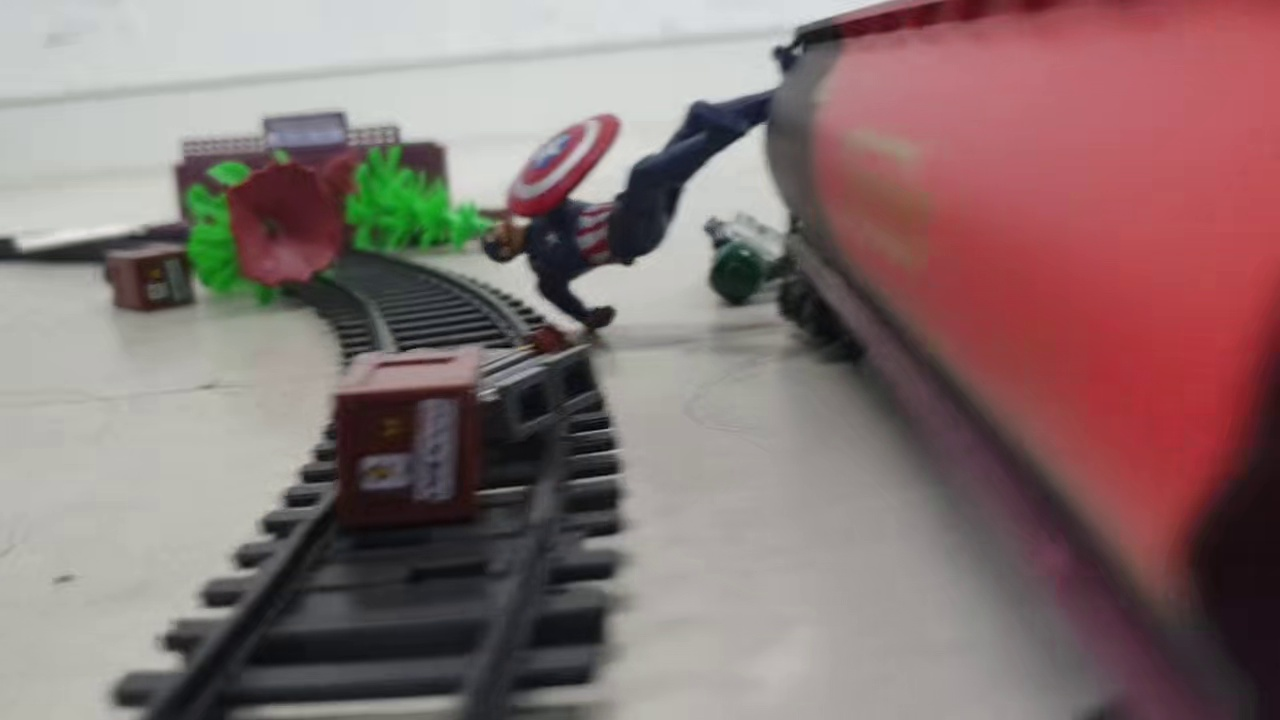box: (333, 344, 486, 531), (105, 241, 198, 314)
people: (481, 87, 776, 330), (332, 340, 604, 443), (703, 212, 798, 305)
tree: (181, 149, 344, 308), (322, 138, 507, 259)
